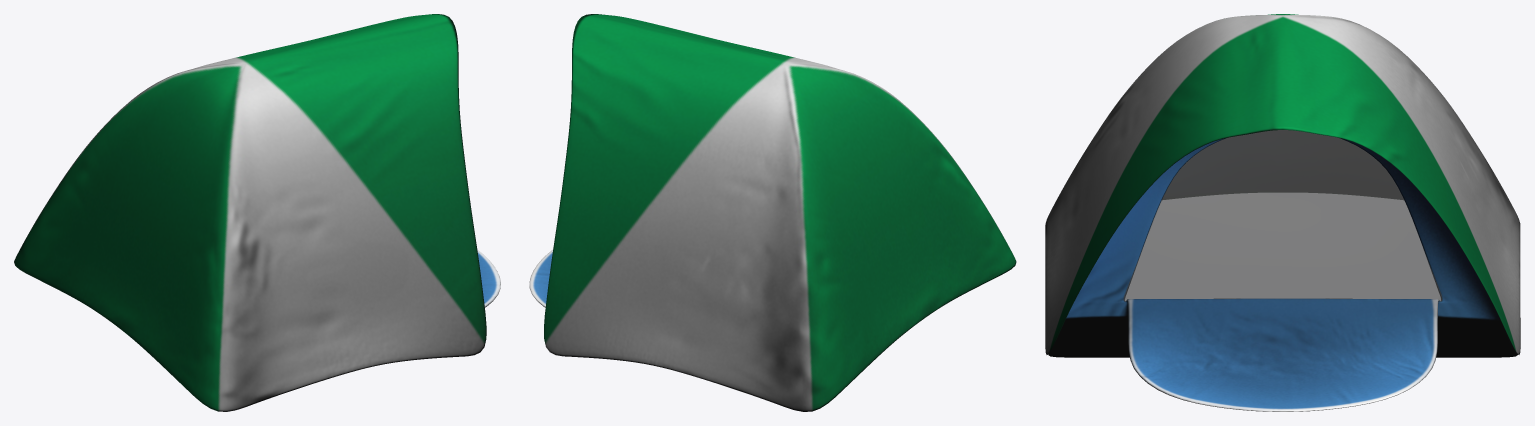
File: GreenTent.glb
3 renders of one model, left to right at view 1: azimuth 30°, elevation 25°; view 2: azimuth 150°, elevation 25°; view 3: azimuth 270°, elevation 25°, orthographic. The views are drawn at different scales.
Visible parts, largest first — view 1: 10495_Green_Mesh_Tent_V1_L3; view 2: 10495_Green_Mesh_Tent_V1_L3; view 3: 10495_Green_Mesh_Tent_V1_L3.
Part boxes in pixels (box(x1,y1,x2,y2)): 10495_Green_Mesh_Tent_V1_L3: box(14, 14, 500, 411); 10495_Green_Mesh_Tent_V1_L3: box(529, 14, 1016, 411); 10495_Green_Mesh_Tent_V1_L3: box(1045, 14, 1520, 411).
Bounding box in the file's own units: 207 × 131 × 208.
Materials: 2 (1 with a texture image).
